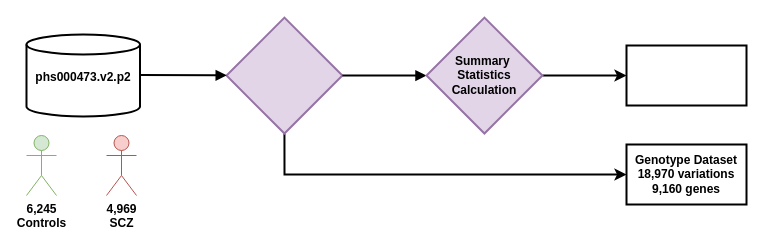
The diagram is 765 pixels wide and 249 high, and some of its shapes have lost their labels. The shapes that lost their labels are listed below. From the top down, each one's centre as x and y in pixels, then its label:
the point at 284,75: Geno-pheno association
the point at 686,75: Summary Statistics file
